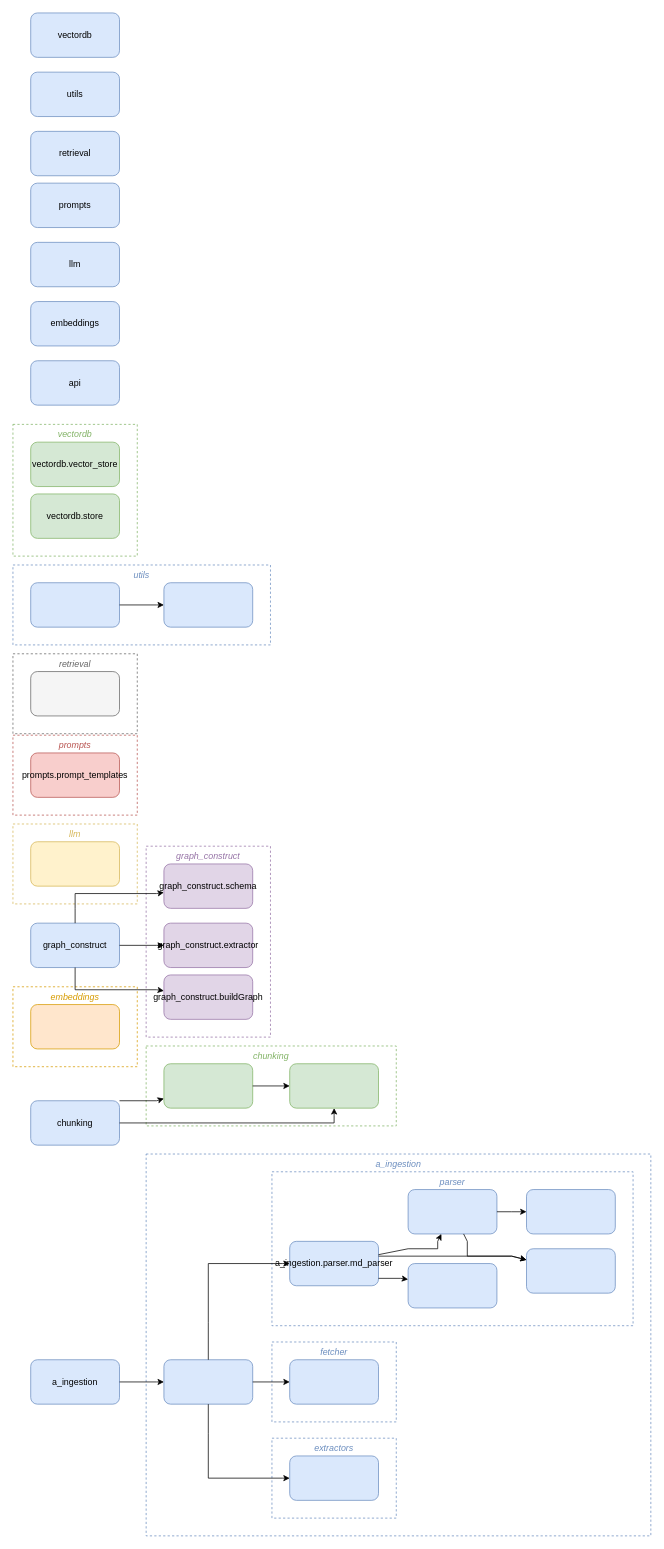
Image size: 664x1549. Some labels were removed from this diagram. Each missing label, with the box of its shape:
a_ingestion.extractors.pdf_to_md: (289, 1455, 379, 1500)
a_ingestion.fetcher.pdf_path: (289, 1359, 379, 1404)
a_ingestion.ingestion: (163, 1359, 253, 1404)
a_ingestion.parser.relations: (407, 1263, 497, 1308)
a_ingestion.parser.rules: (526, 1189, 615, 1234)
a_ingestion.parser.schema: (526, 1248, 615, 1293)
a_ingestion.parser.tree_builder: (407, 1189, 497, 1234)
chunking.chunker: (163, 1063, 253, 1108)
chunking.legal_structure: (289, 1063, 379, 1108)
embeddings.embedder: (30, 1004, 120, 1049)
llm.llm_client: (30, 841, 120, 886)
retrieval.retriever: (30, 671, 120, 716)
utils.configs: (30, 582, 120, 627)
utils.utils: (163, 582, 253, 627)
